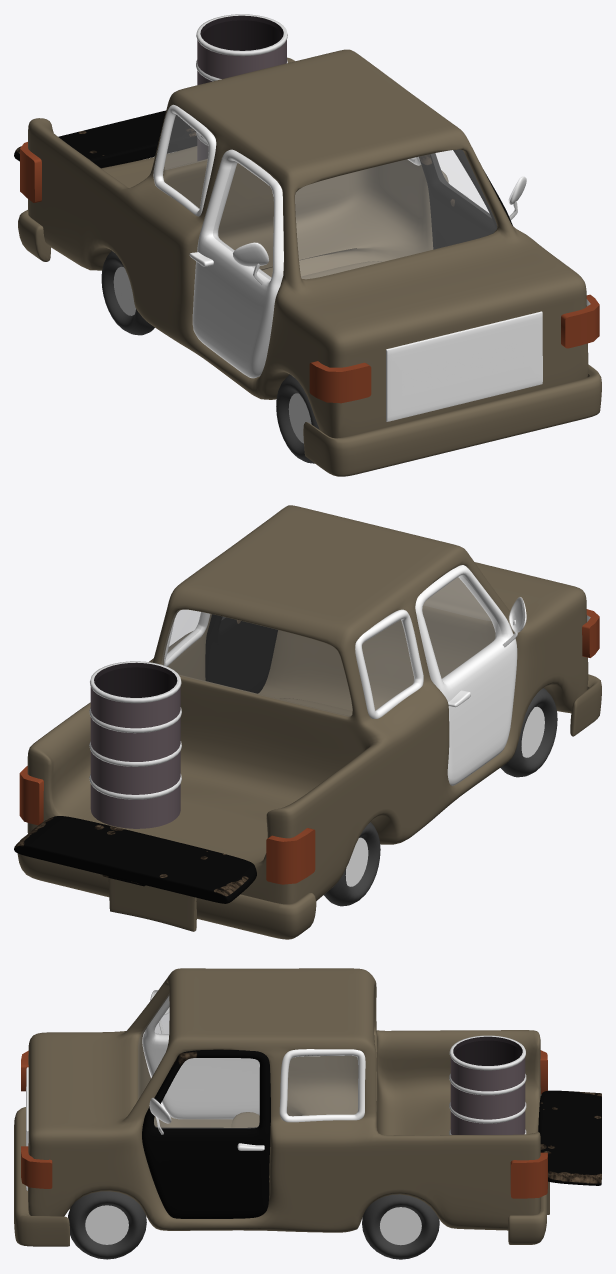
File: PGJ_CamionetaConBarril1.glb
The picture shows the model from 3 angles, top to bottom: view 1: azimuth 30°, elevation 25°; view 2: azimuth 150°, elevation 25°; view 3: azimuth 270°, elevation 25°; orthographic projection. The views are drawn at different scales.
Visible parts, largest first — view 1: CAMIONETA, BARRIL_1.001; view 2: CAMIONETA, BARRIL_1.001; view 3: CAMIONETA, BARRIL_1.001.
Part boxes in pixels (<box>): CAMIONETA: <box>14,49,601,476</box>; BARRIL_1.001: <box>196,14,287,160</box>; CAMIONETA: <box>14,505,601,939</box>; BARRIL_1.001: <box>89,661,181,828</box>; CAMIONETA: <box>14,968,601,1259</box>; BARRIL_1.001: <box>449,1035,526,1134</box>.
Bounding box in the file's own units: 3.76 × 3.12 × 7.84.
Materials: 12 (1 with a texture image).
